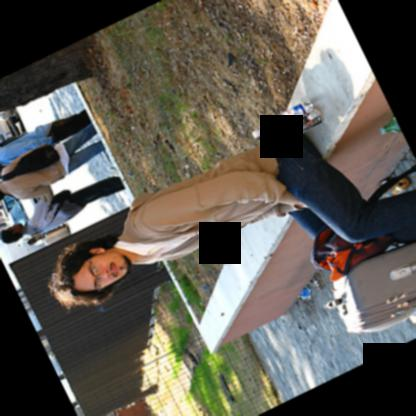backpack: (307, 222, 395, 282), (3, 143, 60, 180)
handbag: (27, 189, 71, 234)
suitcase: (330, 239, 416, 333)
